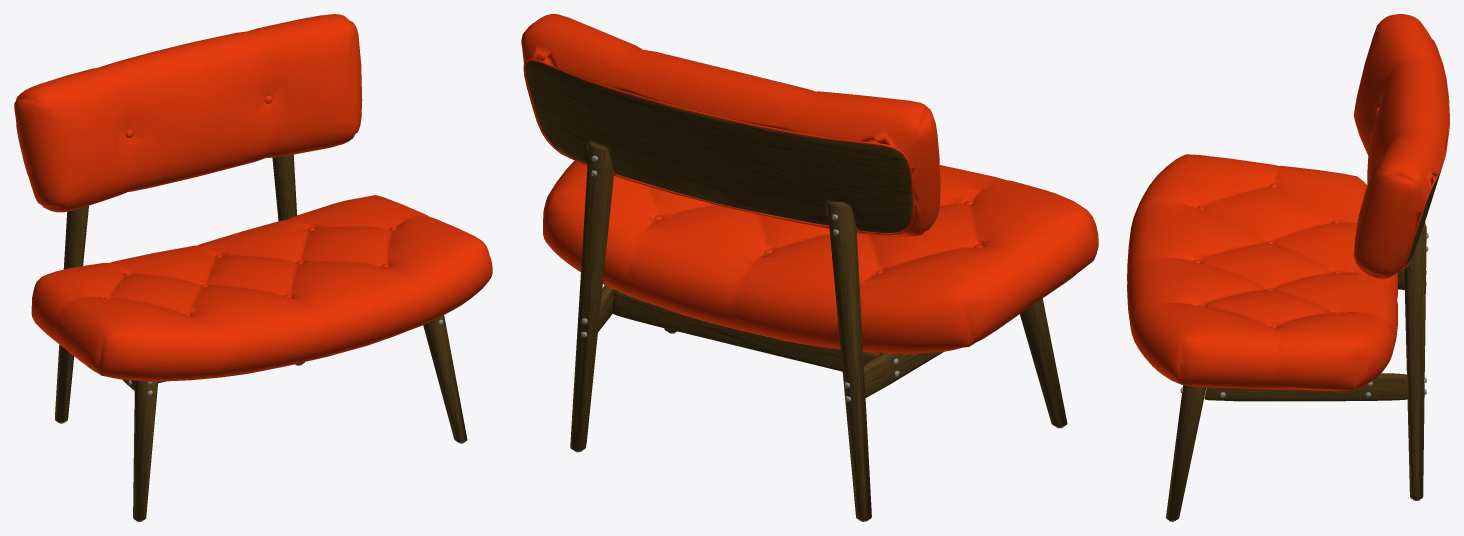
The model's file is sheen_chair.glb.
3 renders of one model, left to right at view 1: azimuth 30°, elevation 25°; view 2: azimuth 150°, elevation 25°; view 3: azimuth 270°, elevation 25°, orthographic. The views are drawn at different scales.
Visible parts, largest first — view 1: SheenChair_fabric, SheenChair_wood; view 2: SheenChair_fabric, SheenChair_wood; view 3: SheenChair_fabric, SheenChair_wood.
Boxes of the visible parts, left/top/right/bottom form: SheenChair_fabric: left=14, top=14, right=492, bottom=381; SheenChair_wood: left=55, top=154, right=467, bottom=520; SheenChair_fabric: left=521, top=14, right=1098, bottom=354; SheenChair_wood: left=525, top=61, right=1067, bottom=520; SheenChair_fabric: left=1127, top=14, right=1449, bottom=391; SheenChair_wood: left=1166, top=170, right=1441, bottom=520.
Bounding box in the file's own units: 0.8265 × 0.6861 × 0.57.
Materials: 4 (3 with a texture image).
